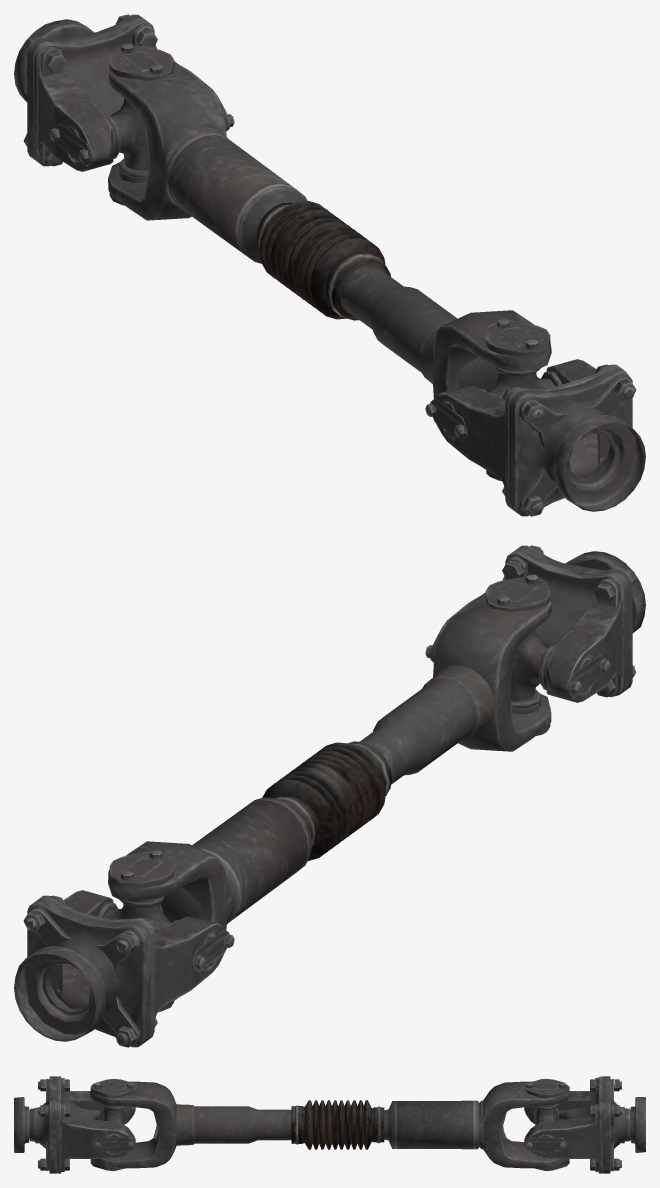
File: driveshaft.glb
The picture shows the model from 3 angles, top to bottom: view 1: azimuth 30°, elevation 25°; view 2: azimuth 150°, elevation 25°; view 3: azimuth 270°, elevation 25°; orthographic projection. The views are drawn at different scales.
Visible parts, largest first — view 1: Driveshaft_Mat_0; view 2: Driveshaft_Mat_0; view 3: Driveshaft_Mat_0.
Part boxes in pixels (left/top/right/bottom): Driveshaft_Mat_0: left=14, top=14, right=645, bottom=516; Driveshaft_Mat_0: left=14, top=545, right=645, bottom=1047; Driveshaft_Mat_0: left=14, top=1076, right=645, bottom=1173.
Size of the model in its own units: 1.13 by 1.03 by 7.14.
1 material, 1 textured.
